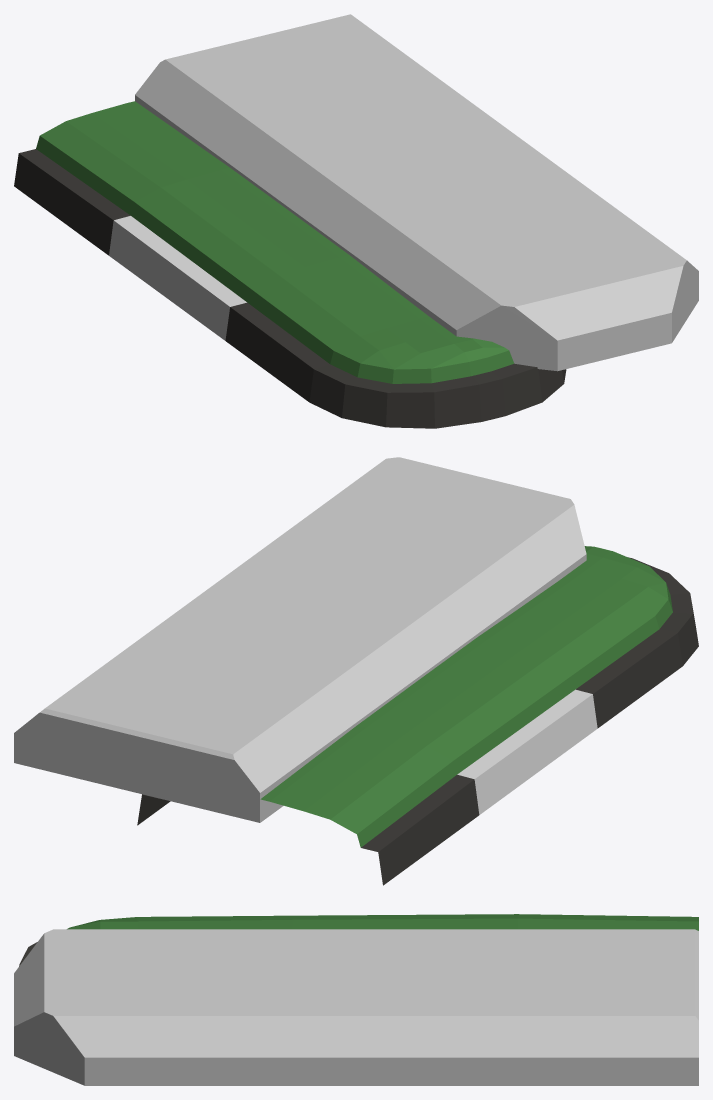
File: SM_Factory_Green_space_Start.fbx
3 renders of one model, top to bottom at view 1: azimuth 30°, elevation 25°; view 2: azimuth 150°, elevation 25°; view 3: azimuth 270°, elevation 25°, orthographic. The views are drawn at different scales.
Visible parts, largest first — view 1: SM_Factory_Green_space_Start_ConvexHulls, SM_Factory_Green_space_Start; view 2: SM_Factory_Green_space_Start_ConvexHulls, SM_Factory_Green_space_Start; view 3: SM_Factory_Green_space_Start_ConvexHulls, SM_Factory_Green_space_Start.
Part boxes in pixels (x1,y1,x2,y2): SM_Factory_Green_space_Start_ConvexHulls: (135, 14, 698, 371); SM_Factory_Green_space_Start: (14, 101, 566, 428); SM_Factory_Green_space_Start_ConvexHulls: (14, 457, 586, 822); SM_Factory_Green_space_Start: (137, 546, 698, 885); SM_Factory_Green_space_Start_ConvexHulls: (14, 929, 698, 1085); SM_Factory_Green_space_Start: (19, 914, 698, 966).
Bounding box in the file's own units: 293 × 500 × 70.55.
Materials: 2 (1 with a texture image).
